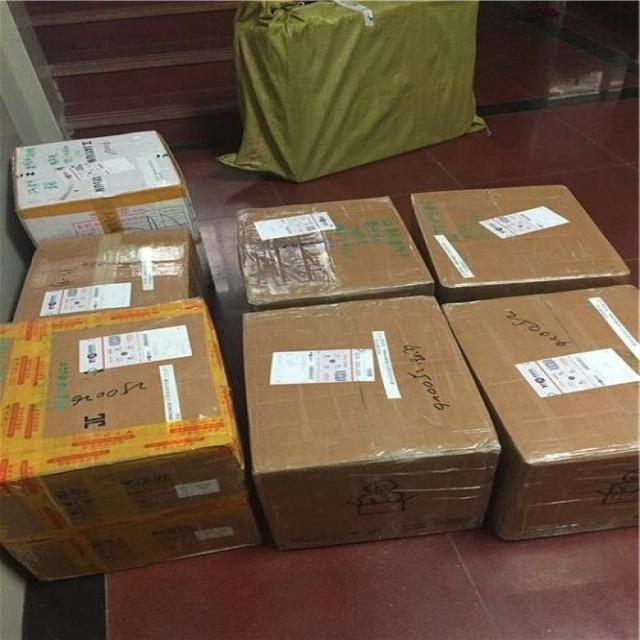box: (0, 297, 262, 581), (242, 295, 502, 552), (442, 283, 640, 541), (215, 0, 492, 183), (12, 129, 218, 294), (410, 183, 631, 303), (237, 196, 434, 313), (12, 225, 210, 320)
